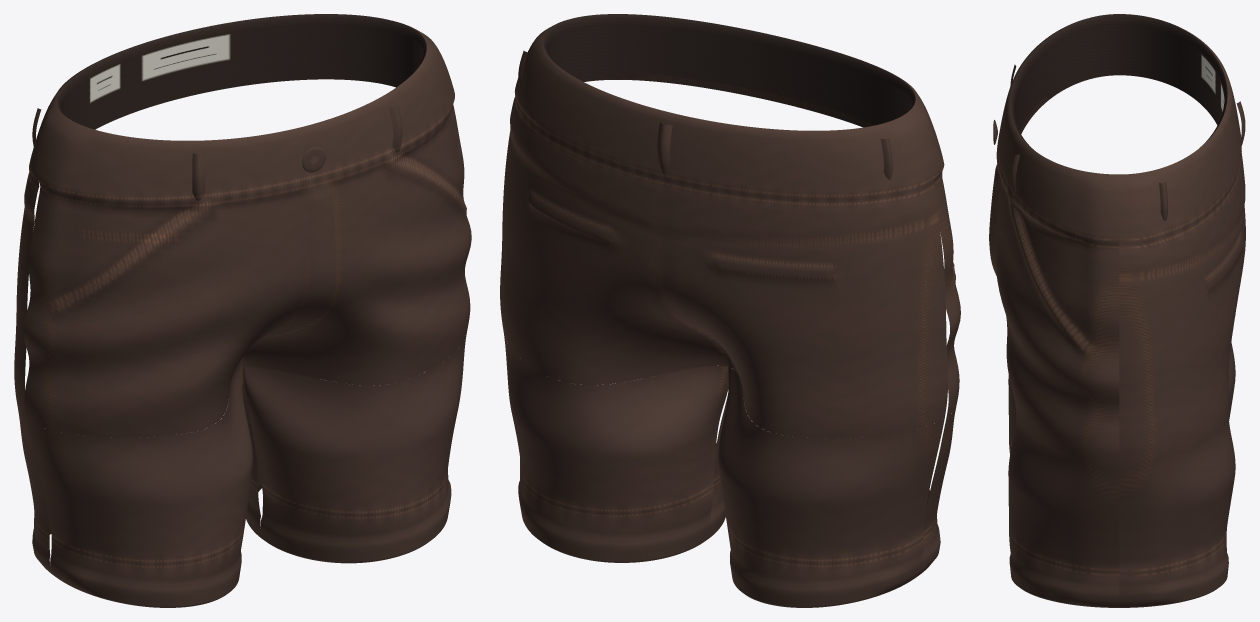
The model's file is shorts-chino-3d.glb.
The picture shows the model from 3 angles, left to right: view 1: azimuth 30°, elevation 25°; view 2: azimuth 150°, elevation 25°; view 3: azimuth 270°, elevation 25°; orthographic projection. The views are drawn at different scales.
Visible parts, largest first — view 1: HeavyweightChinoShorts3D; view 2: HeavyweightChinoShorts3D; view 3: HeavyweightChinoShorts3D.
Boxes of the visible parts, x1,y1,x2,y2 form: HeavyweightChinoShorts3D: (14, 14, 471, 607); HeavyweightChinoShorts3D: (500, 14, 960, 607); HeavyweightChinoShorts3D: (989, 14, 1245, 607).
Bounding box in the file's own units: 0.4993 × 0.5148 × 0.2707.
Materials: 1 (1 with a texture image).
